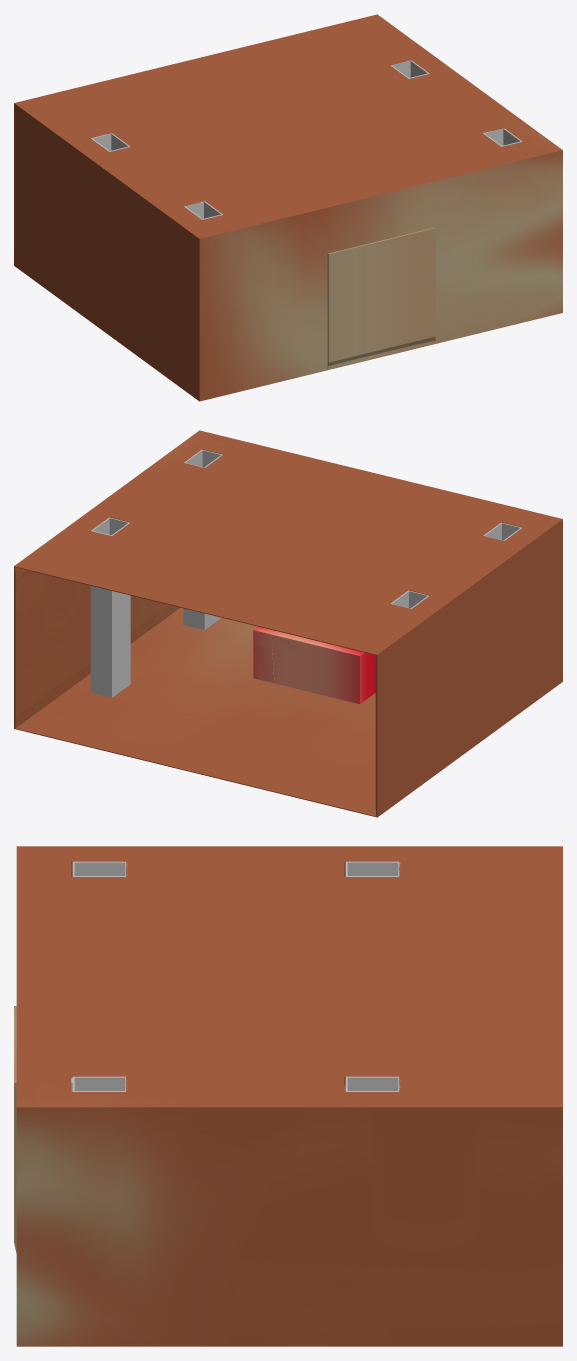
File: Court.fbx
3 renders of one model, top to bottom at view 1: azimuth 30°, elevation 25°; view 2: azimuth 150°, elevation 25°; view 3: azimuth 270°, elevation 25°, orthographic. The views are drawn at different scales.
Visible parts, largest first — view 1: Cube, Cube.002; view 2: Cube, Cube.001, Cube.004, Cube.002; view 3: Cube, Cube.002, Cube.005, Cube.007.
Part boxes in pixels (bbox=[...]): Cube: bbox=[14, 14, 562, 401]; Cube.002: bbox=[184, 128, 522, 219]; Cube: bbox=[14, 430, 562, 817]; Cube.001: bbox=[253, 626, 375, 703]; Cube.004: bbox=[90, 517, 130, 697]; Cube.002: bbox=[183, 449, 522, 629]; Cube: bbox=[14, 846, 562, 1346]; Cube.002: bbox=[72, 861, 127, 1091]; Cube.005: bbox=[345, 861, 400, 876]; Cube.007: bbox=[347, 1077, 398, 1090].
Bounding box in the file's own units: 1426 × 615 × 1267.
